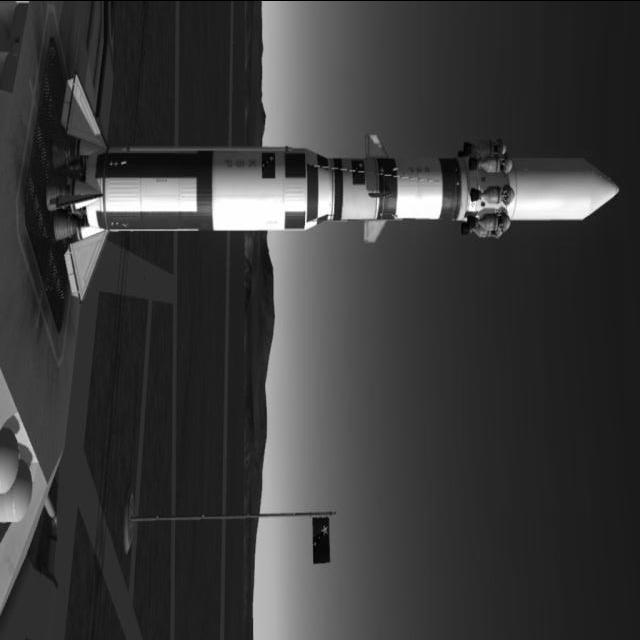missile: (48, 99, 613, 272), (96, 136, 632, 242)
